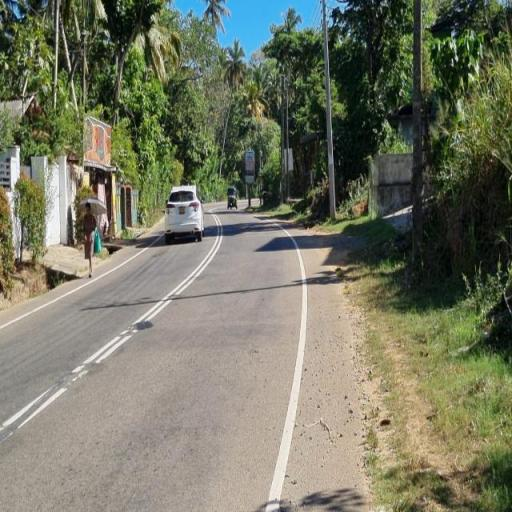double_white_line: (74, 212, 224, 382)
